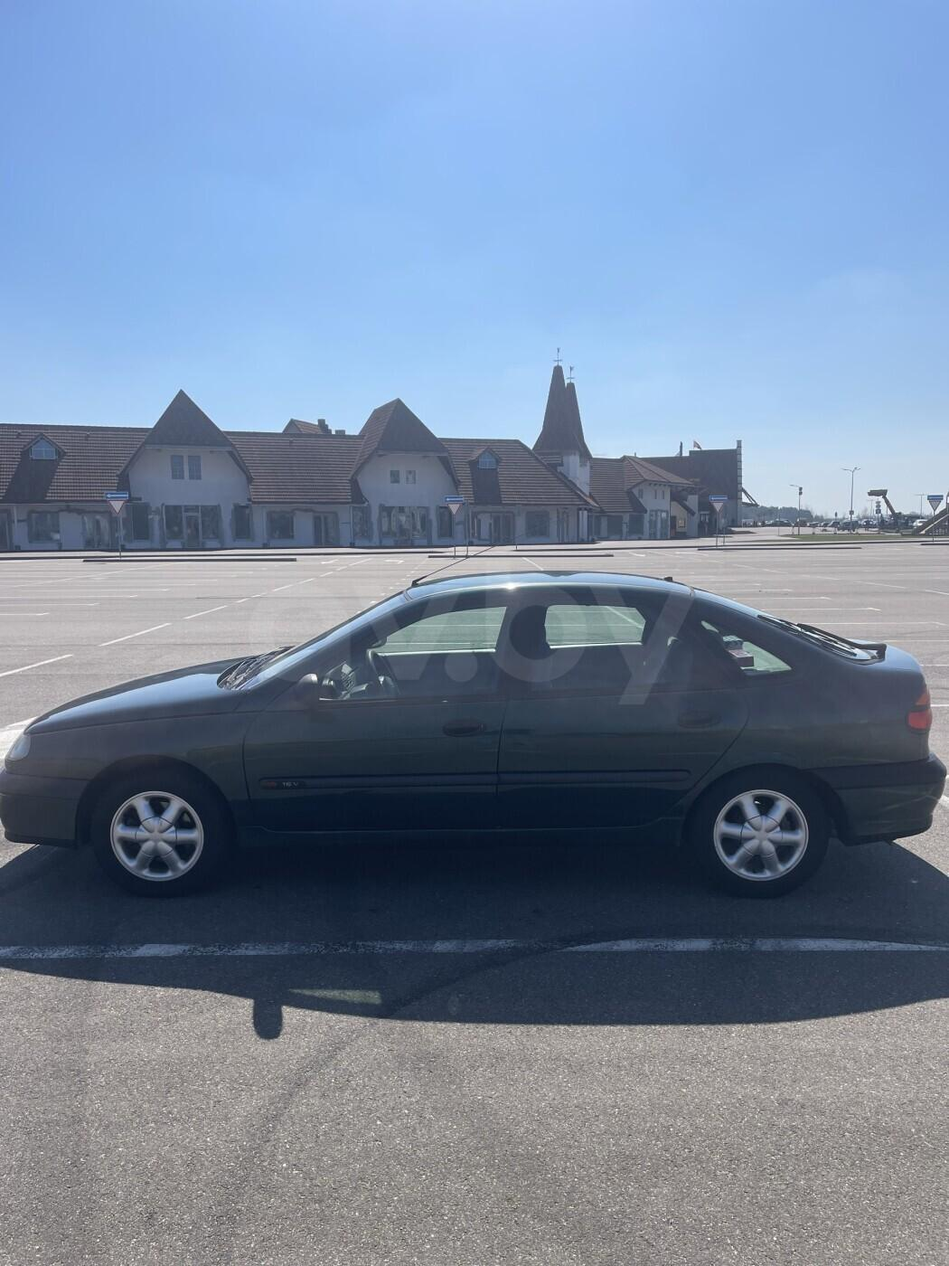Laguna_1998-2001: (0, 562, 944, 906)
